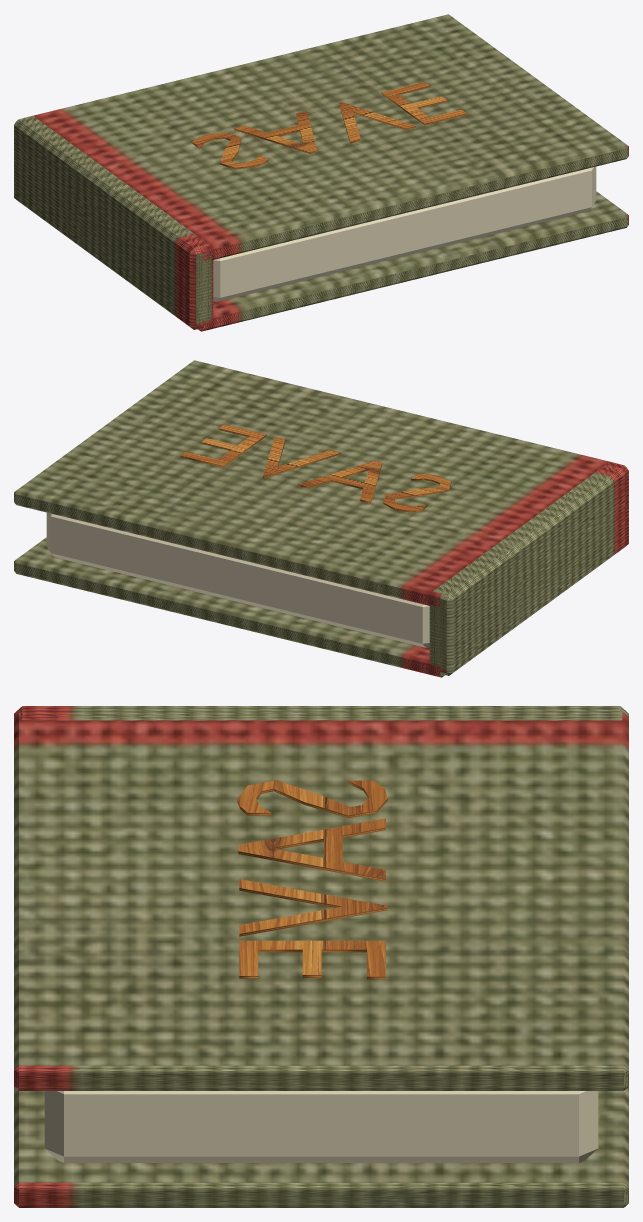
File: InteriorCozy_SaveBook.fbx
3 renders of one model, top to bottom at view 1: azimuth 30°, elevation 25°; view 2: azimuth 150°, elevation 25°; view 3: azimuth 270°, elevation 25°, orthographic. The views are drawn at different scales.
Visible parts, largest first — view 1: InteriorCozy_SaveBook; view 2: InteriorCozy_SaveBook; view 3: InteriorCozy_SaveBook.
Boxes of the visible parts, x1,y1,x2,y2 form: InteriorCozy_SaveBook: (14,14,628,331); InteriorCozy_SaveBook: (14,360,628,677); InteriorCozy_SaveBook: (14,706,628,1207).
Size of the model in its own units: 0.28 by 0.055 by 0.2.
